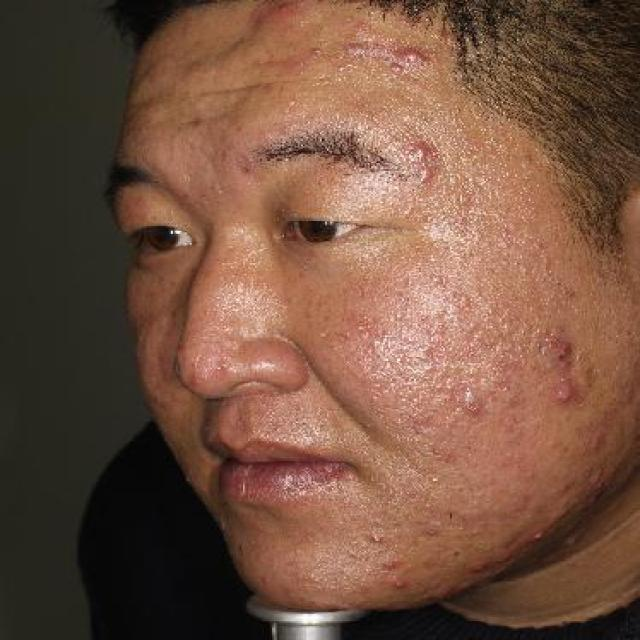nodules: (534, 331, 583, 372)
papules: (455, 378, 488, 431), (402, 41, 443, 74), (551, 380, 580, 415), (336, 34, 376, 58), (406, 140, 438, 165), (411, 165, 445, 188), (378, 555, 402, 574)
pustules: (365, 528, 390, 550)
